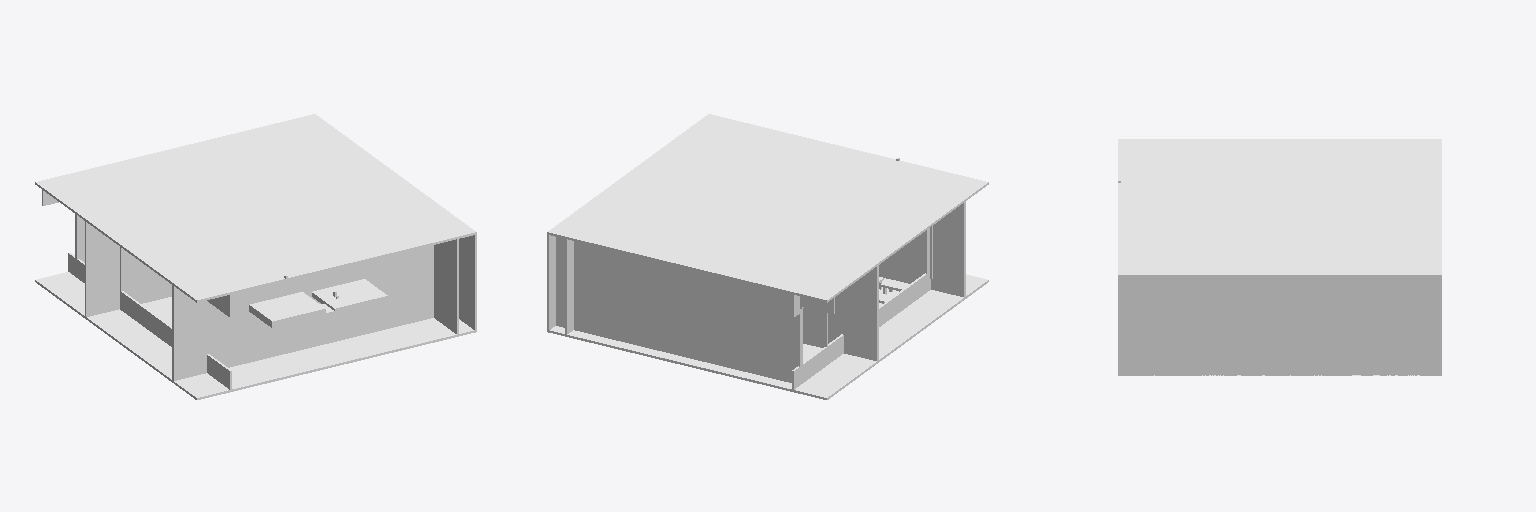
File: classroom02.obj
The picture shows the model from 3 angles: view 1: azimuth 30°, elevation 25°; view 2: azimuth 150°, elevation 25°; view 3: azimuth 270°, elevation 25°; orthographic projection.
Bounding box in the file's own units: 126 × 44 × 126.